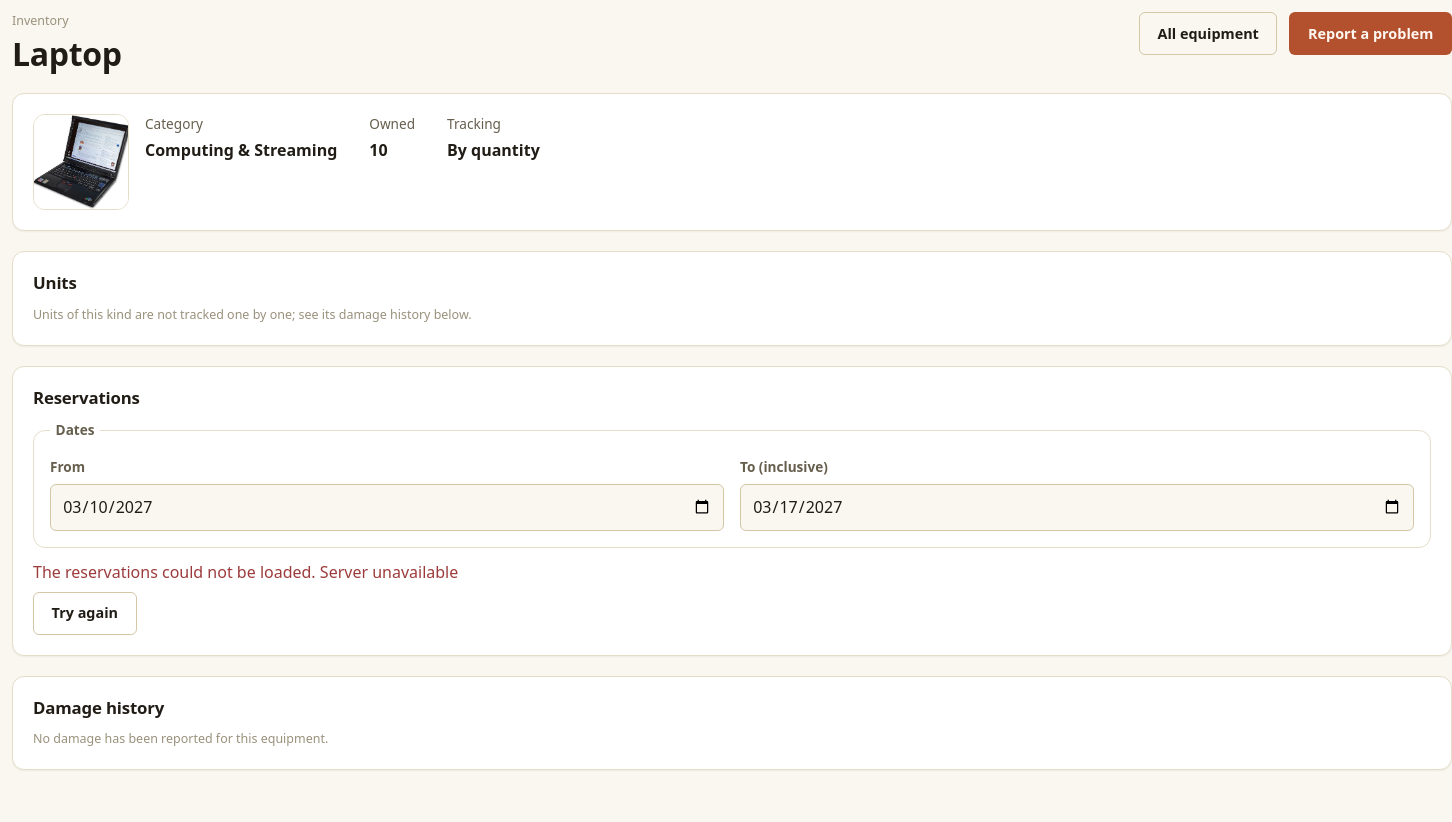
Test: TS09 inventory by date and equipment detail › TS09 (failure): reservations that cannot load fail only their section, and Try again reloads them
This screenshot has width=1452, height=822.
Expected: the message shows "The reservations could not be loaded. Server unavailable", x1=33 y1=561 x2=458 y2=635
Expected: the text "No damage has been reported for this equipment." is shown, x1=33 y1=730 x2=328 y2=748
Click the button "Try again": (85, 613) x1=33 y1=592 x2=137 y2=635
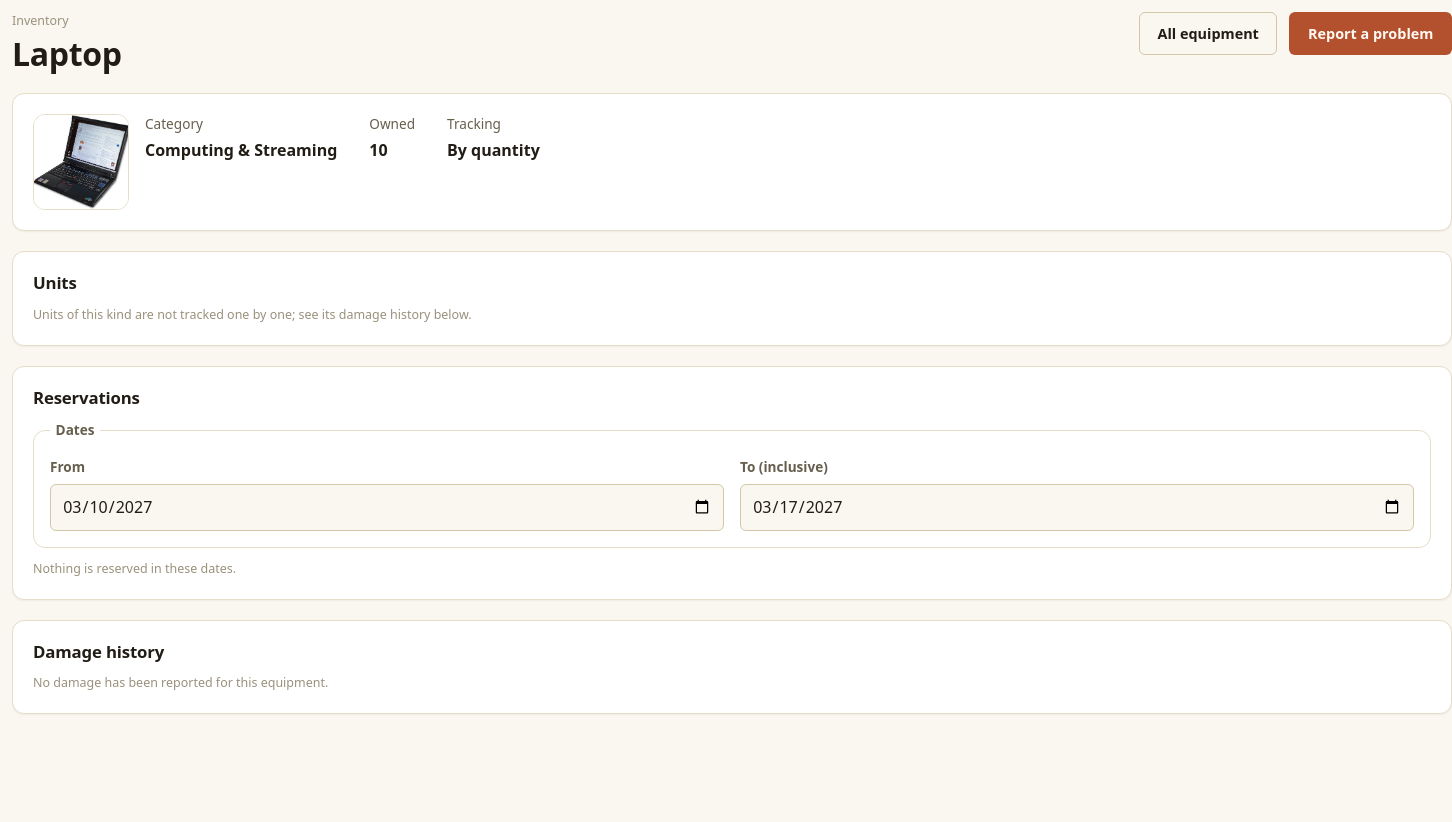
Result: the text "Nothing is reserved in these dates." is shown at x1=33 y1=560 x2=236 y2=577
